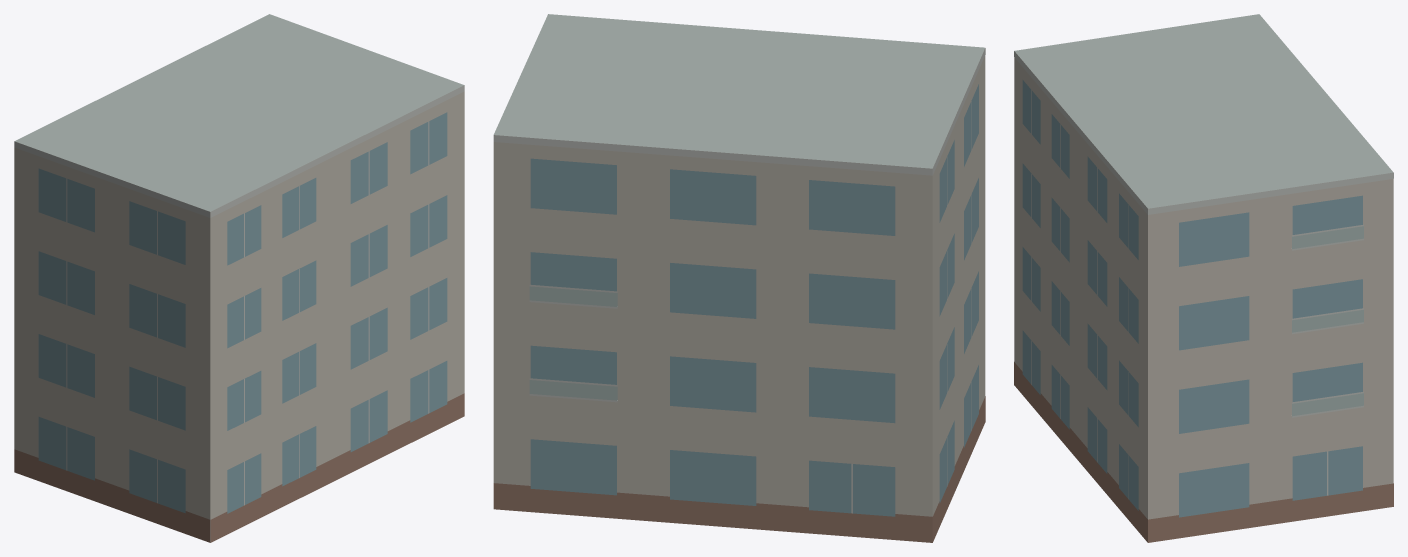
The model's file is survey-upis-32613902.glb.
The picture shows the model from 3 angles, left to right: view 1: azimuth 30°, elevation 25°; view 2: azimuth 150°, elevation 25°; view 3: azimuth 270°, elevation 25°; orthographic projection. The views are drawn at different scales.
Visible parts, largest first — view 1: survey-upis-32613902.tmp; view 2: survey-upis-32613902.tmp; view 3: survey-upis-32613902.tmp.
Boxes of the visible parts, x1,y1,x2,y2 form: survey-upis-32613902.tmp: [14, 14, 464, 542]; survey-upis-32613902.tmp: [493, 14, 985, 542]; survey-upis-32613902.tmp: [1014, 14, 1393, 542].
Bounding box in the file's own units: 16.38 × 13.1 × 13.5.
